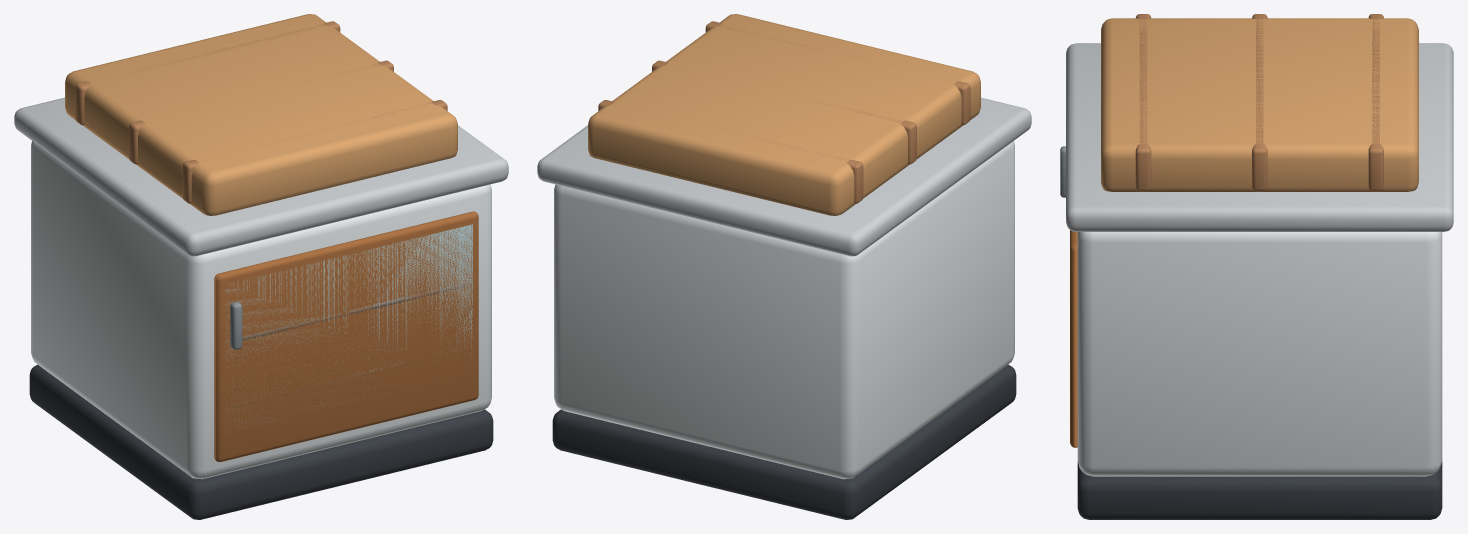
File: st_storage.glb
3 views of the same model, side by side, from view 1: azimuth 30°, elevation 25°; view 2: azimuth 150°, elevation 25°; view 3: azimuth 270°, elevation 25° (orthographic). The views are drawn at different scales.
Visible parts, largest first — view 1: storage; view 2: storage; view 3: storage.
Part boxes in pixels (<box>): storage: <box>14,14,508,519</box>; storage: <box>537,14,1031,519</box>; storage: <box>1060,14,1453,519</box>.
Bounding box in the file's own units: 1.04 × 1.03 × 1.01.
Materials: 1 (1 with a texture image).
